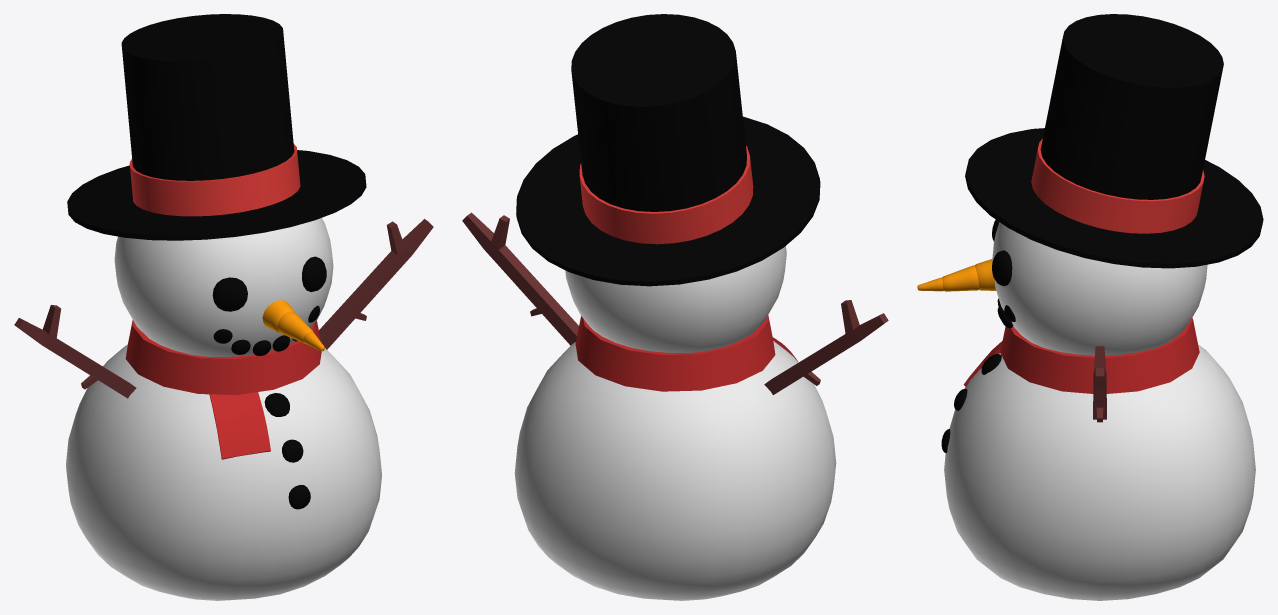
Rendered from snowman_without_snow.glb.
The picture shows the model from 3 angles, left to right: view 1: azimuth 30°, elevation 25°; view 2: azimuth 150°, elevation 25°; view 3: azimuth 270°, elevation 25°; orthographic projection.
Visible parts, largest first — view 1: Cube.219, Circle.2134, Cube.220, Circle.2136, Cube.222, Cube.221, Circle.2135, Cube.223; view 2: Cube.219, Circle.2134, Cube.220, Circle.2136, Cube.222; view 3: Cube.219, Circle.2134, Cube.220, Circle.2136, Circle.2135, Cube.221, Cube.222, Cube.223.
Boxes of the visible parts, box(x1,y1,x2,y2) form: Cube.219: box(66, 344, 381, 600); Circle.2134: box(67, 14, 366, 240); Cube.220: box(114, 218, 333, 356); Circle.2136: box(125, 320, 321, 459); Cube.222: box(14, 219, 433, 398); Cube.221: box(212, 256, 326, 355); Circle.2135: box(262, 300, 324, 351); Cube.223: box(264, 393, 310, 509); Cube.219: box(514, 341, 836, 600); Circle.2134: box(516, 14, 820, 286); Cube.220: box(565, 246, 786, 352); Circle.2136: box(575, 315, 797, 391); Cube.222: box(462, 212, 888, 394); Cube.219: box(944, 344, 1255, 600); Circle.2134: box(965, 14, 1263, 268); Cube.220: box(992, 222, 1207, 355); Circle.2136: box(963, 318, 1199, 393); Circle.2135: box(917, 259, 996, 291); Cube.221: box(992, 220, 1015, 328); Cube.222: box(1093, 346, 1106, 422); Cube.223: box(941, 354, 1001, 453).
Bounding box in the file's own units: 1.78 × 2.17 × 1.28.
Materials: 1 (1 with a texture image).
